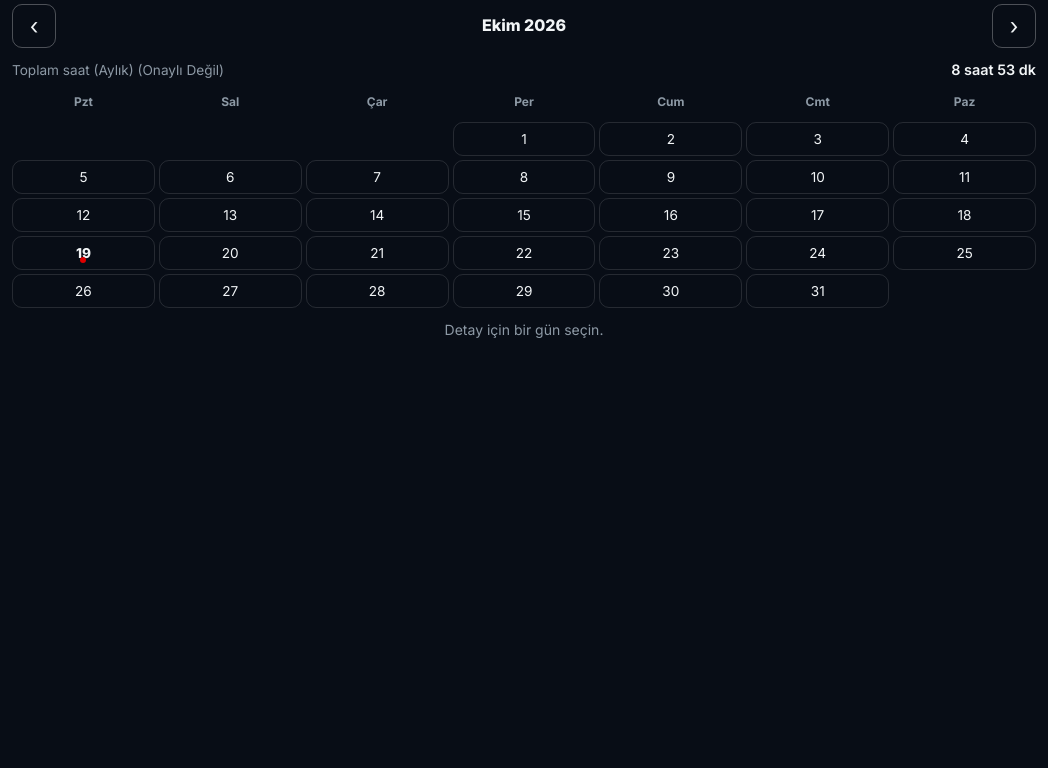
it: PersonelQrHistoryPage calendar product states › shows day detail when a day with events is selected
The width and height of the screenshot is (1048, 768).
expect the element with test id "qr-history-calendar" is shown: met, box [12,4,1036,48]
Click the button "19" at [83, 253], box [12,236,155,270]
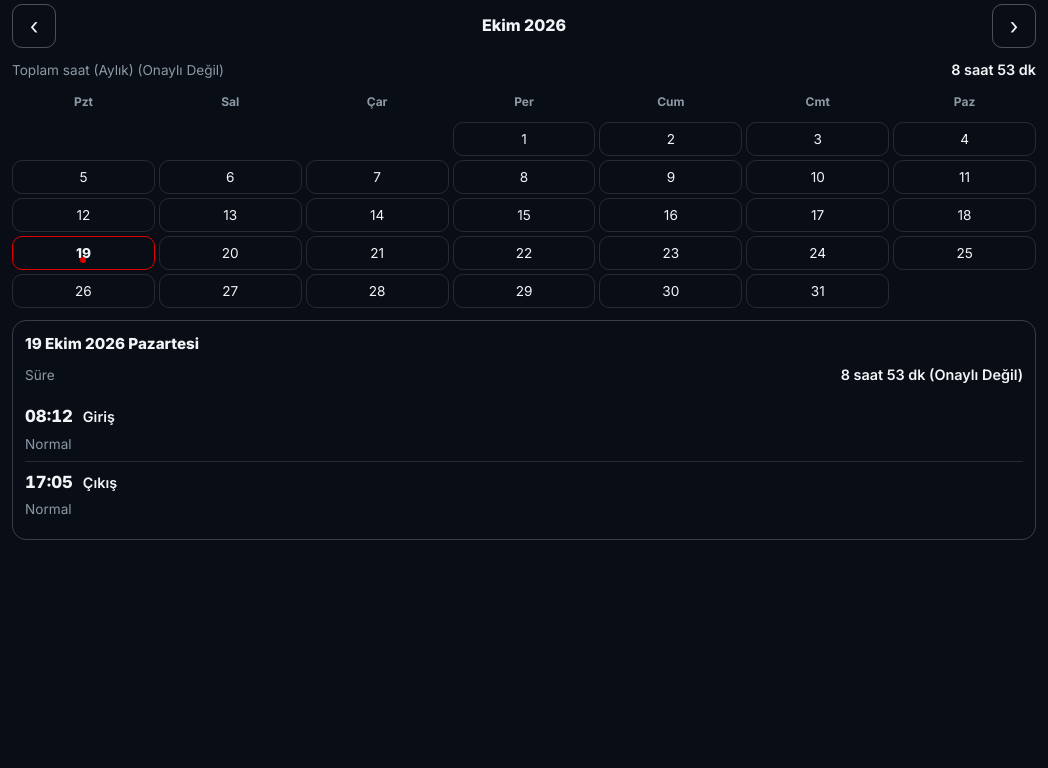
expect the element with test id "qr-history-day-detail" is shown: met, box [12,320,1036,540]
expect the text "08:12" is shown: met, box [25,404,73,428]
expect the text "17:05" is shown: met, box [25,470,73,494]
